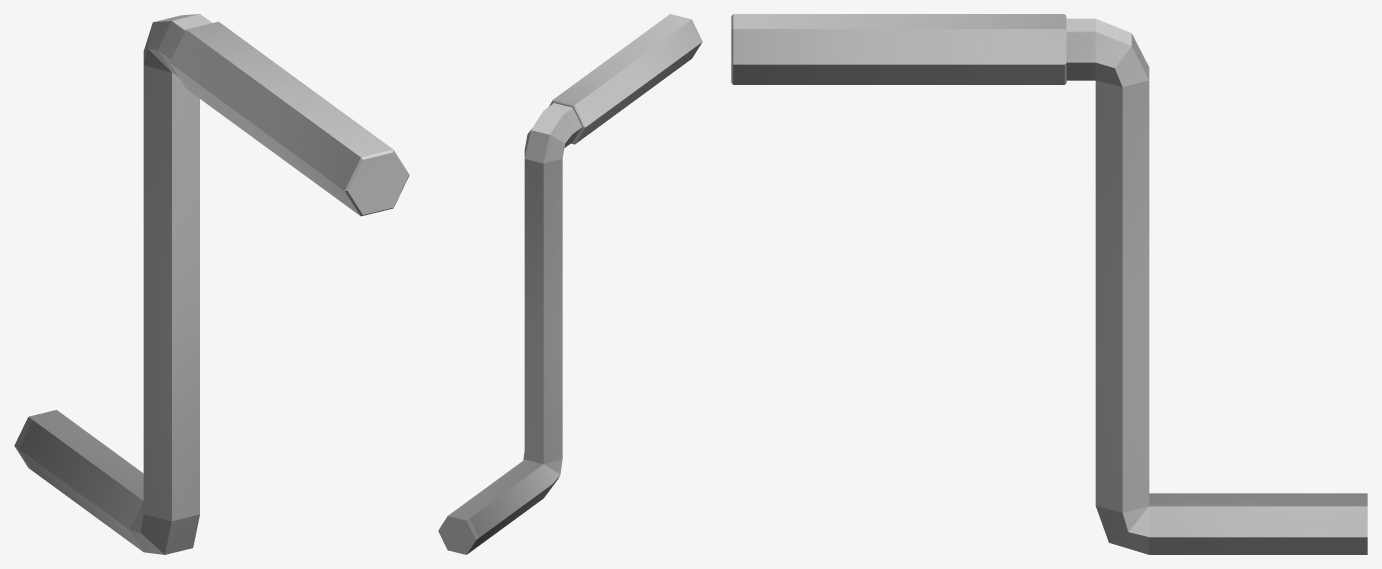
File: Manivela.obj
The picture shows the model from 3 angles, left to right: view 1: azimuth 30°, elevation 25°; view 2: azimuth 150°, elevation 25°; view 3: azimuth 270°, elevation 25°; orthographic projection. The views are drawn at different scales.
Visible parts, largest first — view 1: polySurface7; view 2: polySurface7; view 3: polySurface7.
Boxes of the visible parts, x1,y1,x2,y2 form: polySurface7: [14, 14, 409, 554]; polySurface7: [438, 14, 702, 554]; polySurface7: [731, 14, 1367, 554].
Bounding box in the file's own units: 0.0791 × 0.646 × 0.707.
Materials: 1 (1 with a texture image).
